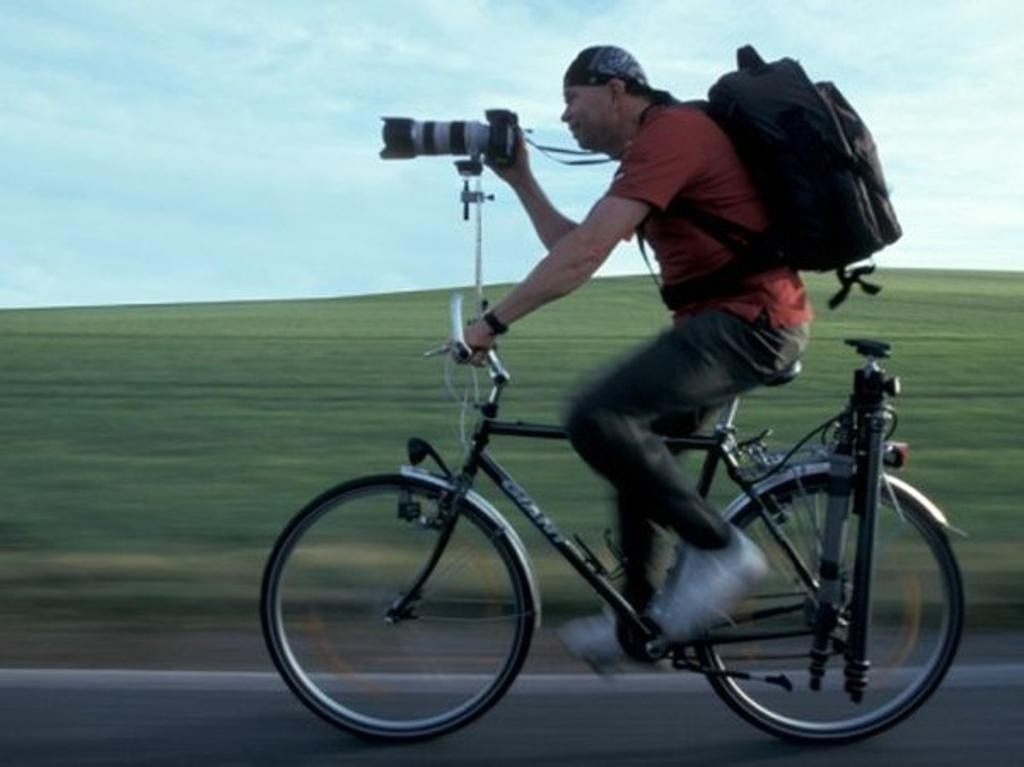face: (559, 75, 617, 153)
